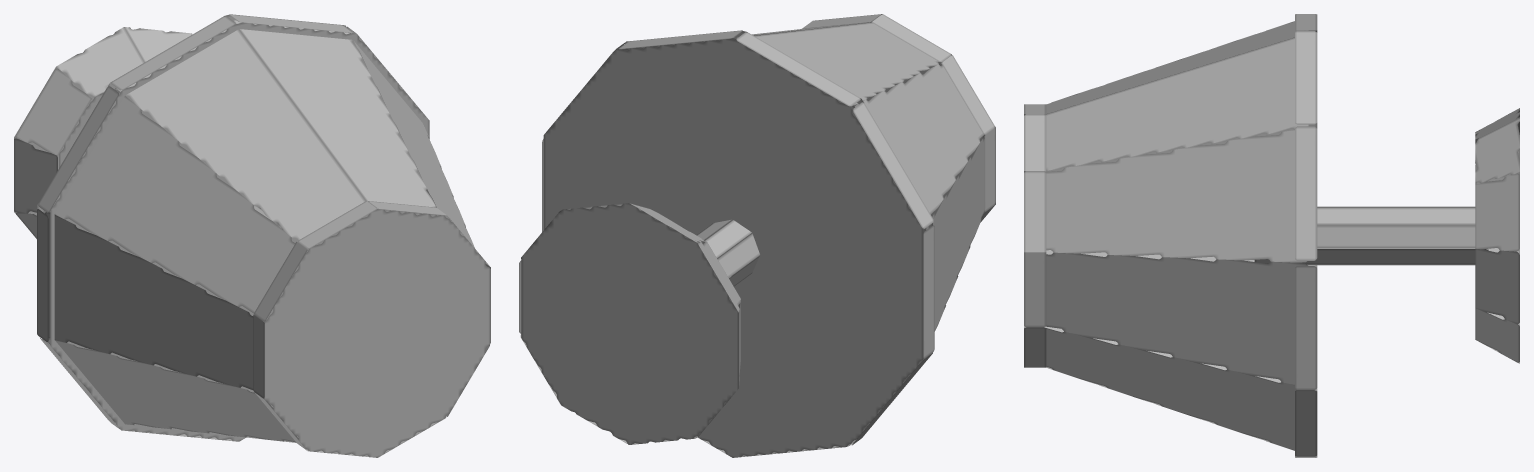
Rendered from table_lamp_red_gold.obj.
3 renders of one model, left to right at view 1: azimuth 30°, elevation 25°; view 2: azimuth 150°, elevation 25°; view 3: azimuth 270°, elevation 25°, orthographic. The views are drawn at different scales.
Parts seen in each view (by area): view 1: table_lamp_red_gold; view 2: table_lamp_red_gold; view 3: table_lamp_red_gold.
Part boxes in pixels (left/top/right/bottom): table_lamp_red_gold: left=14, top=14, right=490, bottom=457; table_lamp_red_gold: left=519, top=14, right=995, bottom=457; table_lamp_red_gold: left=1024, top=14, right=1519, bottom=457.
Bounding box in the file's own units: 0.2146 × 0.2257 × 0.2474.
1 material, 1 textured.
